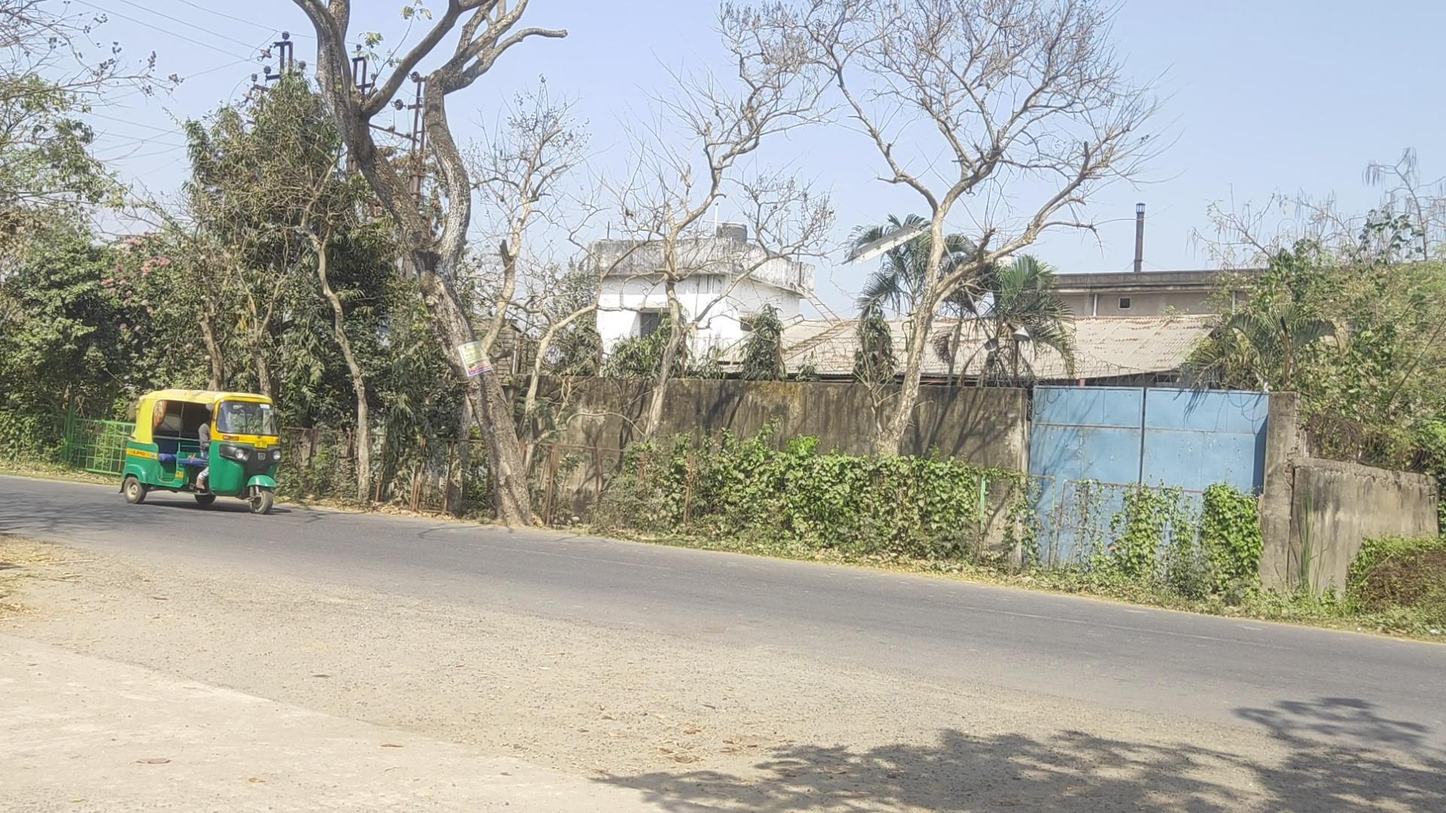Auto: (118, 389, 281, 515)
